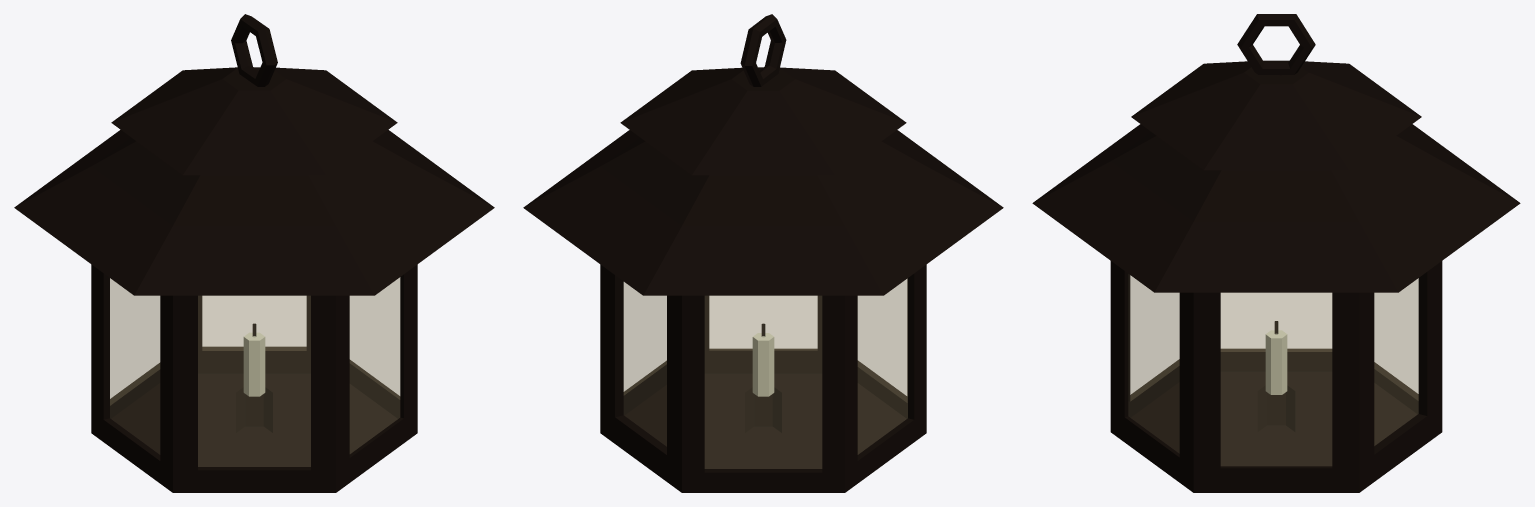
3 views of the same model, side by side, from view 1: azimuth 30°, elevation 25°; view 2: azimuth 150°, elevation 25°; view 3: azimuth 270°, elevation 25° (orthographic).
Visible parts, largest first — view 1: metal-material, lamp_glass-material, candle-material; view 2: metal-material, lamp_glass-material, candle-material; view 3: metal-material, lamp_glass-material, candle-material.
Boxes of the visible parts, <box> form: metal-material: <box>14,14,494,492</box>; lamp_glass-material: <box>110,278,399,466</box>; candle-material: <box>243,332,265,396</box>; metal-material: <box>523,14,1003,492</box>; lamp_glass-material: <box>624,278,907,468</box>; candle-material: <box>752,333,774,396</box>; metal-material: <box>1032,14,1520,492</box>; lamp_glass-material: <box>1128,274,1418,465</box>; candle-material: <box>1265,330,1287,394</box>.
Size of the model in its own units: 0.6759 by 0.7381 by 0.7804.
